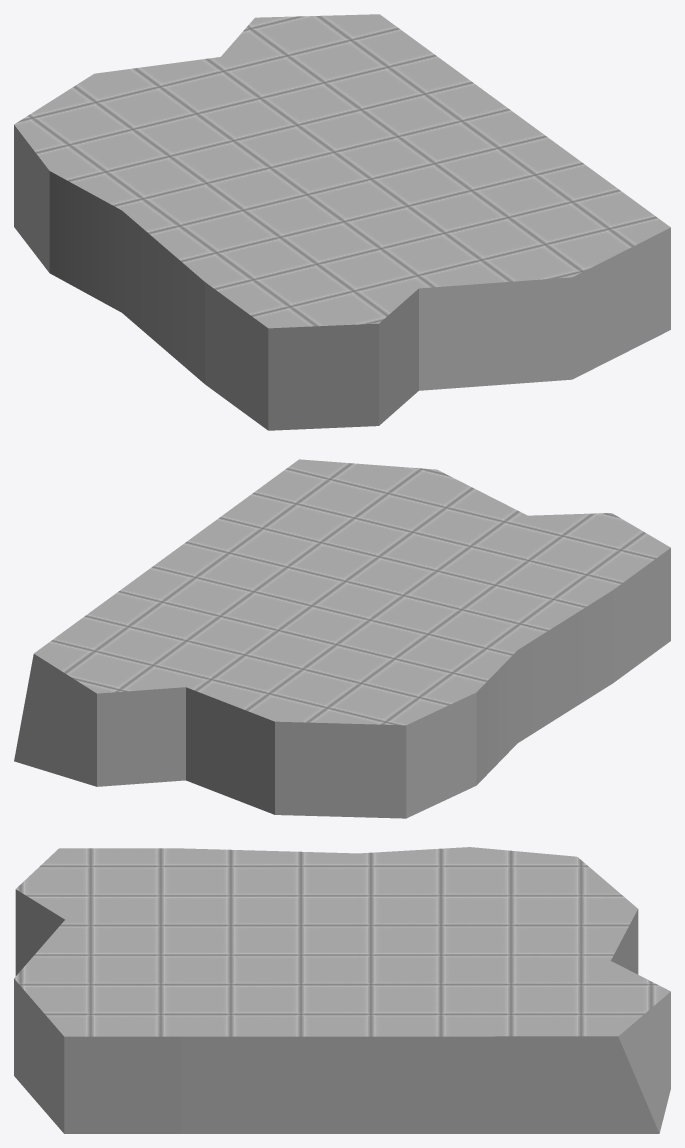
File: Floor6.fbx
3 views of the same model, one above another, from view 1: azimuth 30°, elevation 25°; view 2: azimuth 150°, elevation 25°; view 3: azimuth 270°, elevation 25° (orthographic). The views are drawn at different scales.
Parts seen in each view (by area): view 1: Floor6; view 2: Floor6; view 3: Floor6.
Boxes of the visible parts, <box> form: Floor6: <box>14,14,670,430</box>; Floor6: <box>14,459,670,818</box>; Floor6: <box>14,847,670,1133</box>.
Size of the model in its own units: 445 by 107 by 652.
